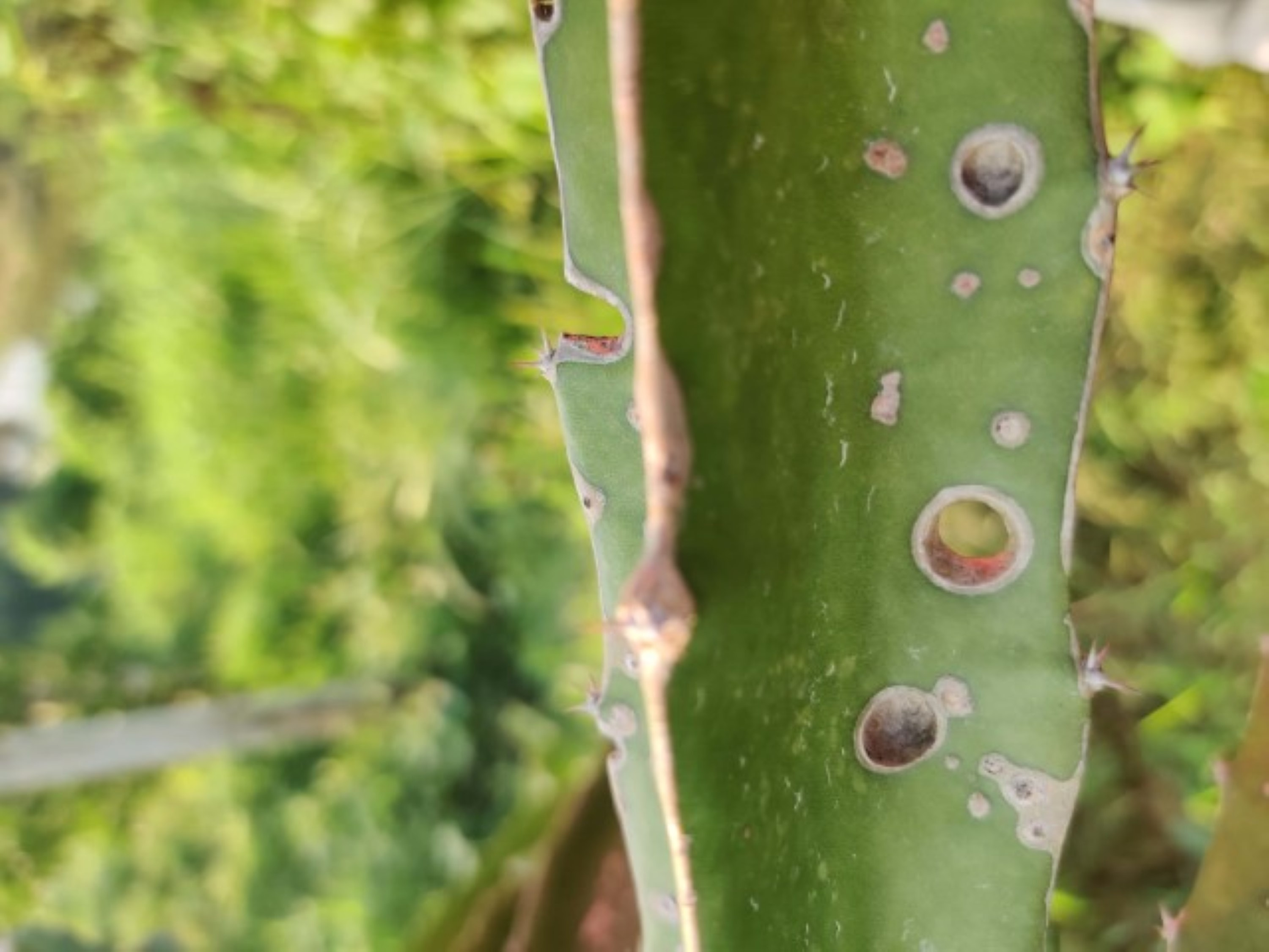stemcanker: (725, 0, 1242, 924)
